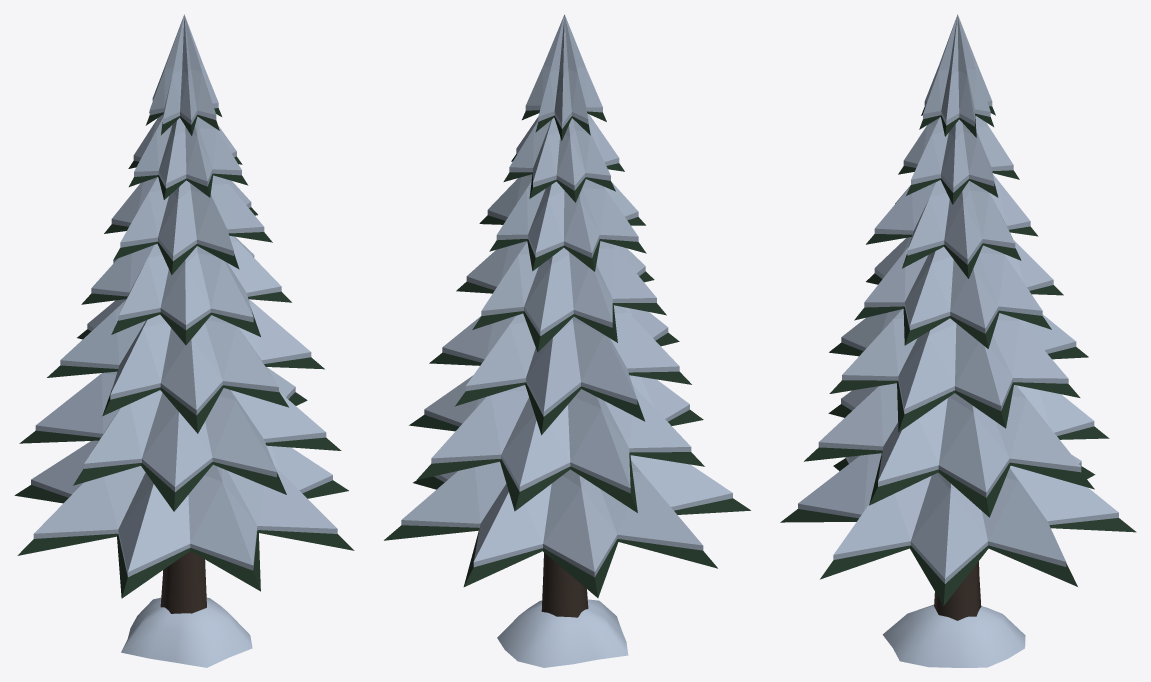
File: pine_hd_a.glb
3 views of the same model, side by side, from view 1: azimuth 30°, elevation 25°; view 2: azimuth 150°, elevation 25°; view 3: azimuth 270°, elevation 25° (orthographic).
Visible parts, largest first — view 1: Tree; view 2: Tree; view 3: Tree.
Boxes of the visible parts, x1,y1,x2,y2 form: Tree: (14, 14, 354, 667); Tree: (384, 14, 750, 667); Tree: (780, 14, 1136, 667).
Bounding box in the file's own units: 4.15 × 7.75 × 3.99.
